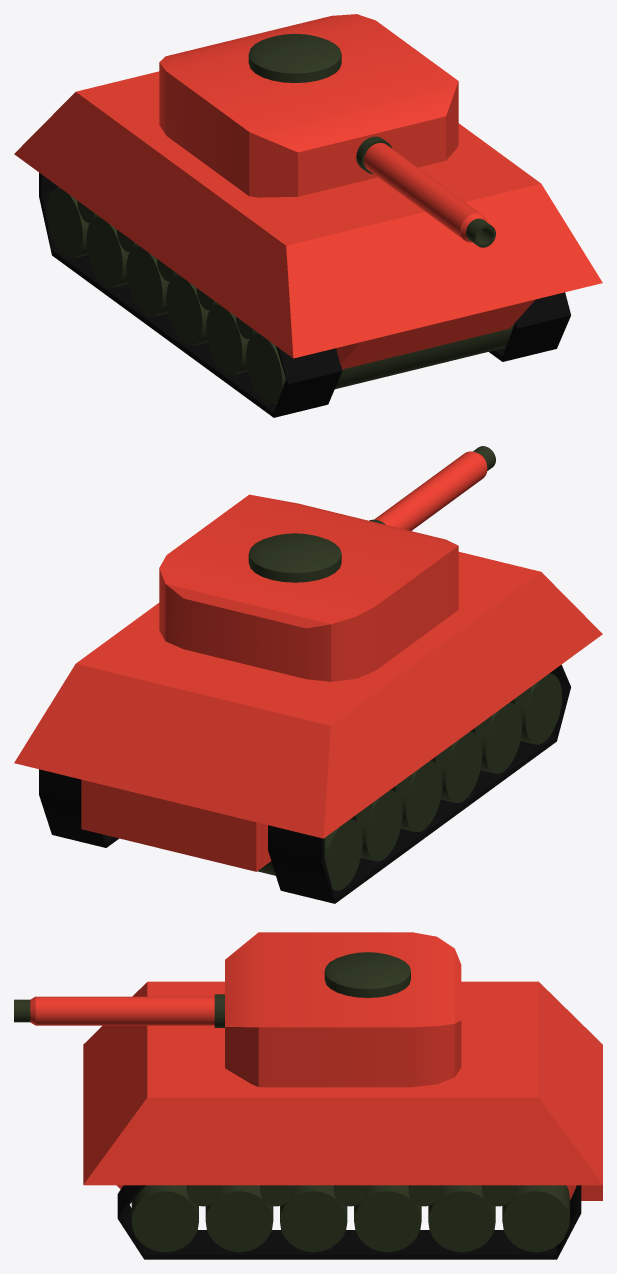
File: enemyTank.fbx
The picture shows the model from 3 angles, top to bottom: view 1: azimuth 30°, elevation 25°; view 2: azimuth 150°, elevation 25°; view 3: azimuth 270°, elevation 25°; orthographic projection. The views are drawn at different scales.
Visible parts, largest first — view 1: Tank; view 2: Tank; view 3: Tank.
Part boxes in pixels (<box>): Tank: <box>14,14,602,417</box>; Tank: <box>14,446,602,903</box>; Tank: <box>14,932,602,1259</box>.
Bounding box in the file's own units: 128 × 227 × 96.83.
